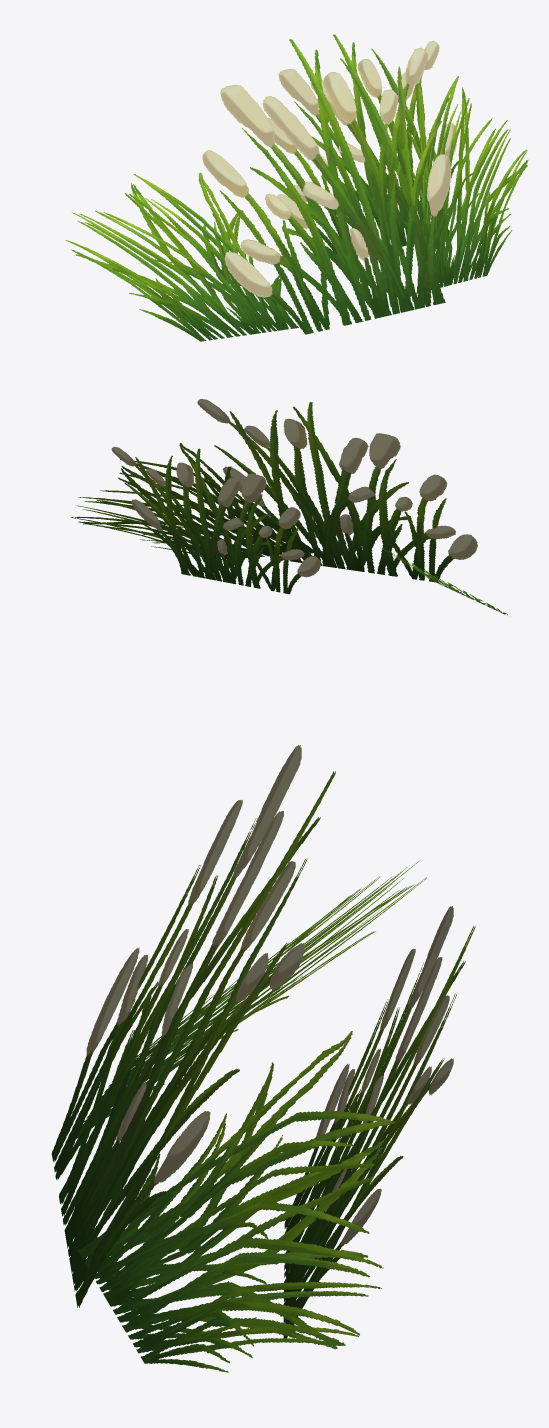
Rendered from 2_Plant_Cao_05.FBX.
3 renders of one model, top to bottom at view 1: azimuth 30°, elevation 25°; view 2: azimuth 150°, elevation 25°; view 3: azimuth 270°, elevation 25°, orthographic. The views are drawn at different scales.
Parts seen in each view (by area): view 1: 2_Plant_Cao_05; view 2: 2_Plant_Cao_05; view 3: 2_Plant_Cao_05.
Boxes of the visible parts, bbox=[...] form: 2_Plant_Cao_05: bbox=[66, 34, 528, 341]; 2_Plant_Cao_05: bbox=[71, 399, 507, 615]; 2_Plant_Cao_05: bbox=[51, 745, 475, 1372].
Size of the model in its own units: 169 by 79.27 by 70.15.
